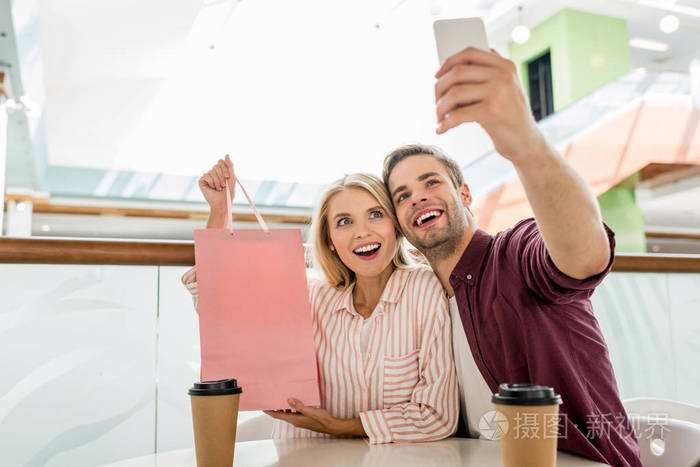taking photos: (428, 10, 549, 163)
